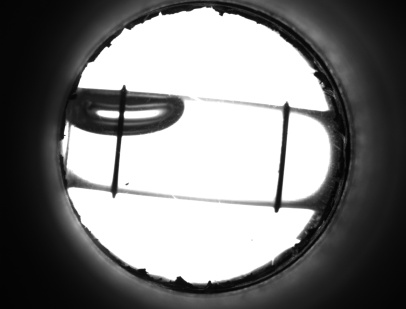line: (270, 124, 293, 190), (108, 144, 127, 179)
